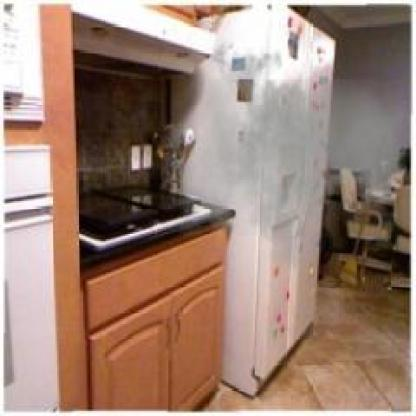Smoke: (179, 33, 409, 281)
